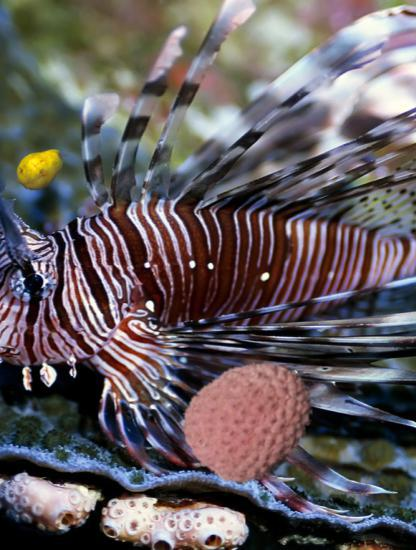Lychee: (183, 352, 318, 487)
Pear: (15, 139, 70, 194)
